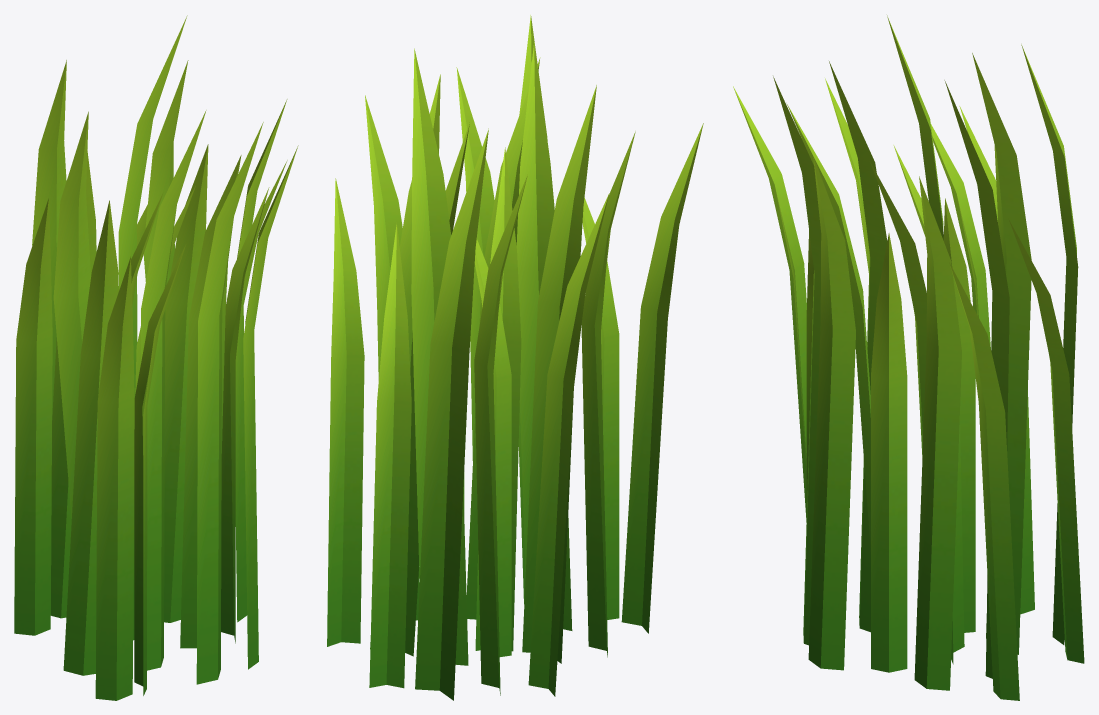
The picture shows the model from 3 angles, left to right: view 1: azimuth 30°, elevation 25°; view 2: azimuth 150°, elevation 25°; view 3: azimuth 270°, elevation 25°; orthographic projection. The views are drawn at different scales.
Visible parts, largest first — view 1: Reed; view 2: Reed; view 3: Reed.
Boxes of the visible parts, x1,y1,x2,y2 form: Reed: (14,15,298,700); Reed: (327,15,703,700); Reed: (733,15,1084,700).
Bounding box in the file's own units: 0.9898 × 2.16 × 1.11.
1 material, 1 textured.
